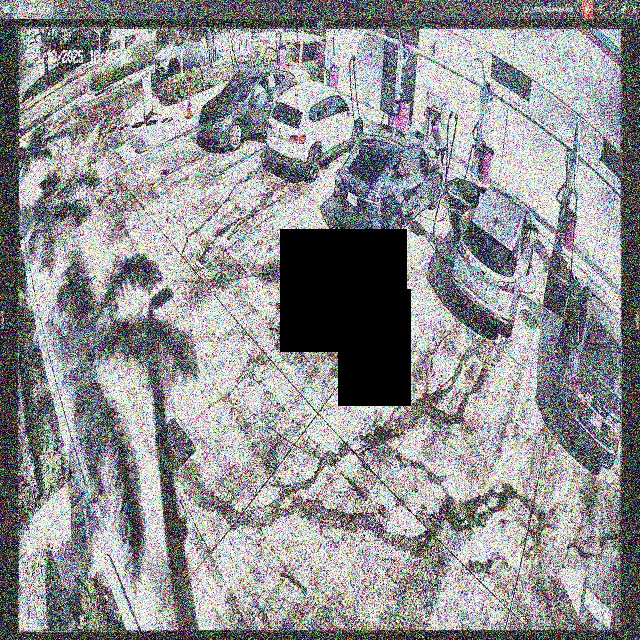Car: (445, 176, 536, 340), (331, 123, 442, 254), (268, 79, 364, 182), (198, 64, 299, 155)
